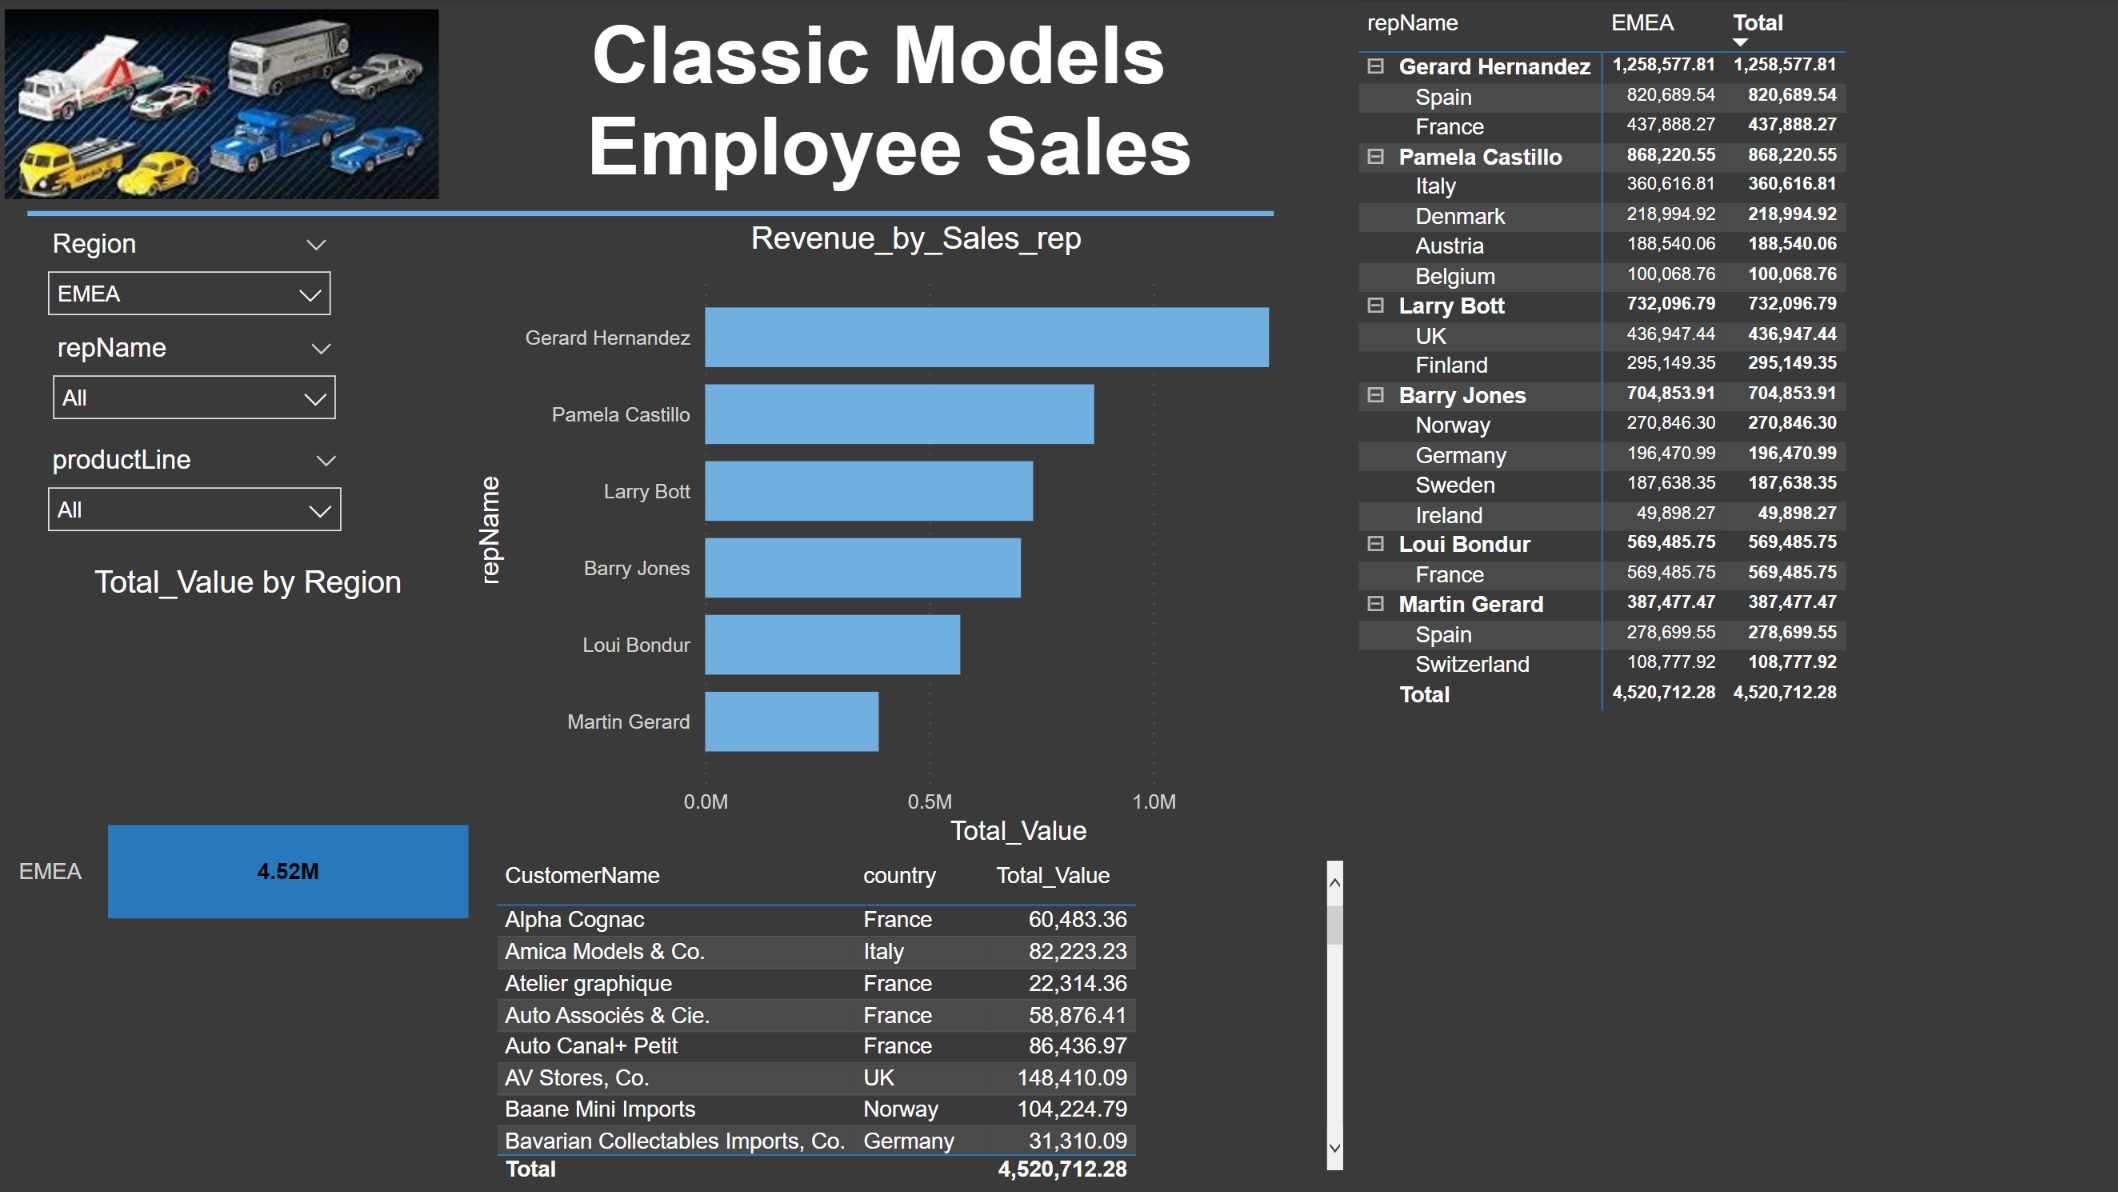

This screenshot's page, from the dashboard's own definition file:
{"tool":"powerbi","page":{"name":"Scenario4","canvas":[1280,720],"ordinal":3},"visuals":[{"type":"textbox","box":[271.6,1.3,532.7,123.7],"z":0},{"type":"image","box":[0,0,271.6,125],"z":1000},{"type":"basicShape","box":[8.5,111.2,771.5,34],"z":2000},{"type":"slicer","fields":{"Values":["Products.productLine"]},"box":[20.3,227.7,197,72.6],"z":3000},{"type":"donutChart","title":"Revenue_by_Sales_rep","fields":{"Category":["Customers.repName"],"Y":["Sum(Order_Details.Total_Value)"]},"box":[284.7,139.4,539.2,411.6],"z":4000},{"type":"slicer","fields":{"Values":["Customers.Region"]},"box":[20.3,145.3,191.1,62.8],"z":6000},{"type":"funnel","fields":{"Y":["Sum(Order_Details.Total_Value)"],"Category":["Customers.Region"]},"box":[8.5,340.3,286,347.5],"z":7000},{"type":"pivotTable","fields":{"Values":["Sum(Order_Details.Total_Value)"],"Rows":["Customers.repName","Customers.country"],"Columns":["Customers.Region"]},"box":[816,0,464,719.8],"z":8000}]}

Visuals, with their boxes in screenshot pixels (x1, y1, x2, y2), scaled from the page's 1280x720 canvas onto the 2118x1192 screenshot:
textbox: x1=449, y1=2, x2=1331, y2=207
image: x1=0, y1=0, x2=449, y2=207
basicShape: x1=14, y1=184, x2=1291, y2=240
slicer - Products.productLine: x1=34, y1=377, x2=360, y2=497
"Revenue_by_Sales_rep" donutChart: x1=471, y1=231, x2=1363, y2=912
slicer - Customers.Region: x1=34, y1=241, x2=350, y2=345
funnel - Sum(Order_Details.Total_Value) x Customers.Region: x1=14, y1=563, x2=487, y2=1139
pivotTable - Sum(Order_Details.Total_Value) x Customers.repName: x1=1350, y1=0, x2=2117, y2=1191
